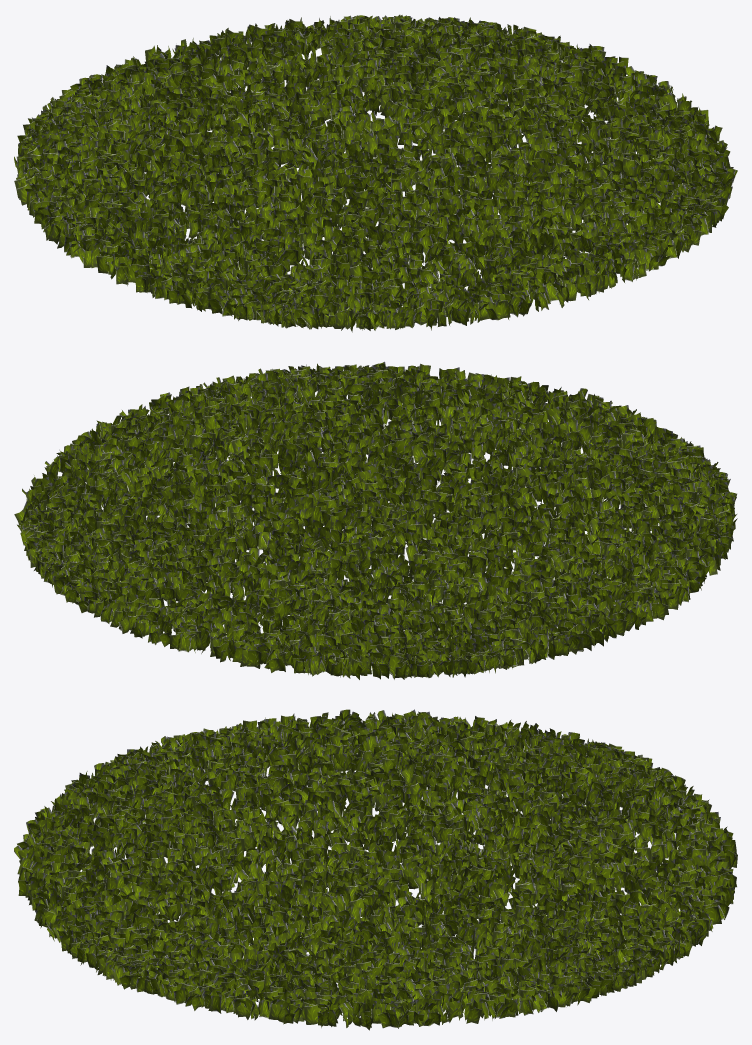
File: Grass.fbx
The picture shows the model from 3 angles, top to bottom: view 1: azimuth 30°, elevation 25°; view 2: azimuth 150°, elevation 25°; view 3: azimuth 270°, elevation 25°; orthographic projection.
Parts seen in each view (by area): view 1: Plane.004; view 2: Plane.004; view 3: Plane.004.
Boxes of the visible parts, x1,y1,x2,y2 form: Plane.004: (14, 14, 737, 332); Plane.004: (14, 361, 737, 679); Plane.004: (14, 709, 737, 1030).
Size of the model in its own units: 171 by 171 by 5.59.
